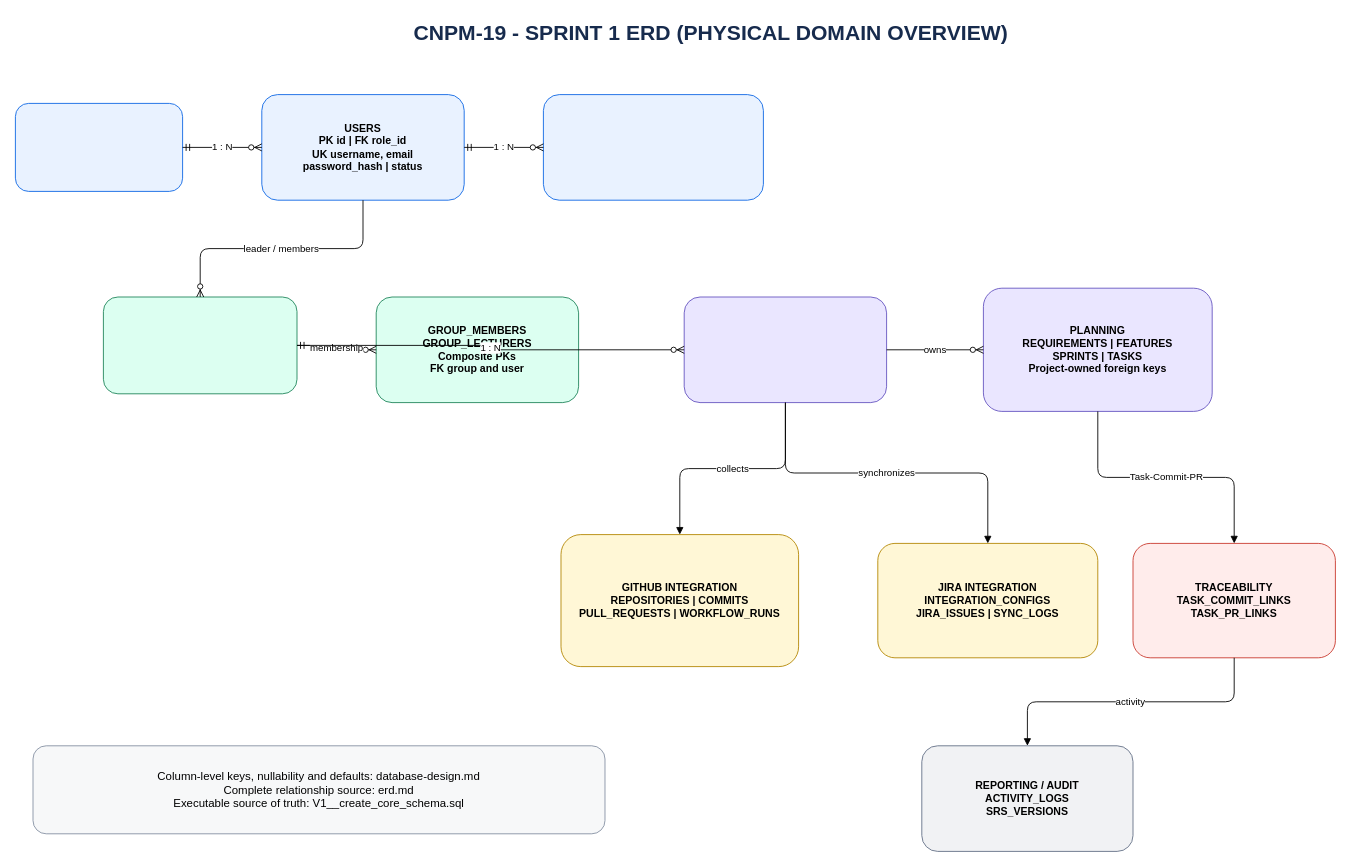
The diagram is 1351 pixels wide and 867 high, and some of its shapes have lost their labels. The shapes that lost their labels are listed below. From the top down, each one's box as (x1, y1, x2, y2) in pixels, then its label:
(15, 103, 183, 191): ROLES PK id UK code name
(543, 94, 763, 200): USER_EXTERNAL_ACCOUNTS FK user_id provider + external_user_id
(103, 296, 297, 394): STUDENT_GROUPS PK id | UK code FK leader_user_id
(683, 296, 887, 403): PROJECTS PK id | FK group_id Jira site/project mapping
